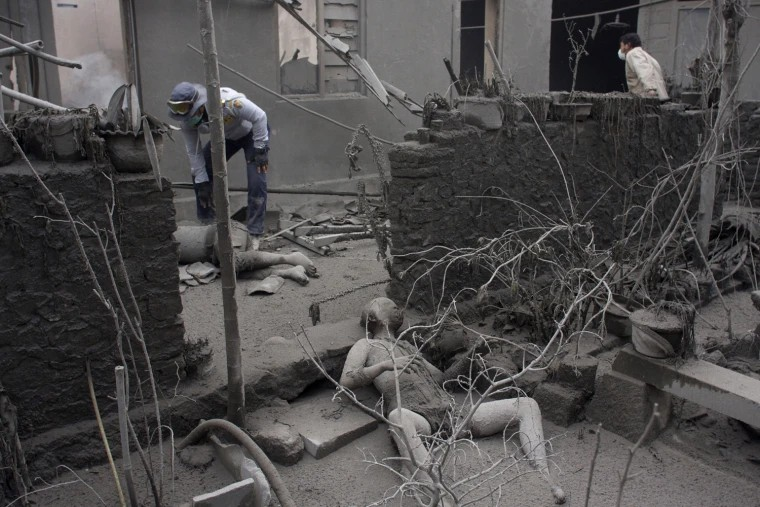BukanKorban: (166, 82, 270, 249), (617, 32, 670, 101)
Korban: (339, 297, 565, 507), (172, 219, 320, 286)
